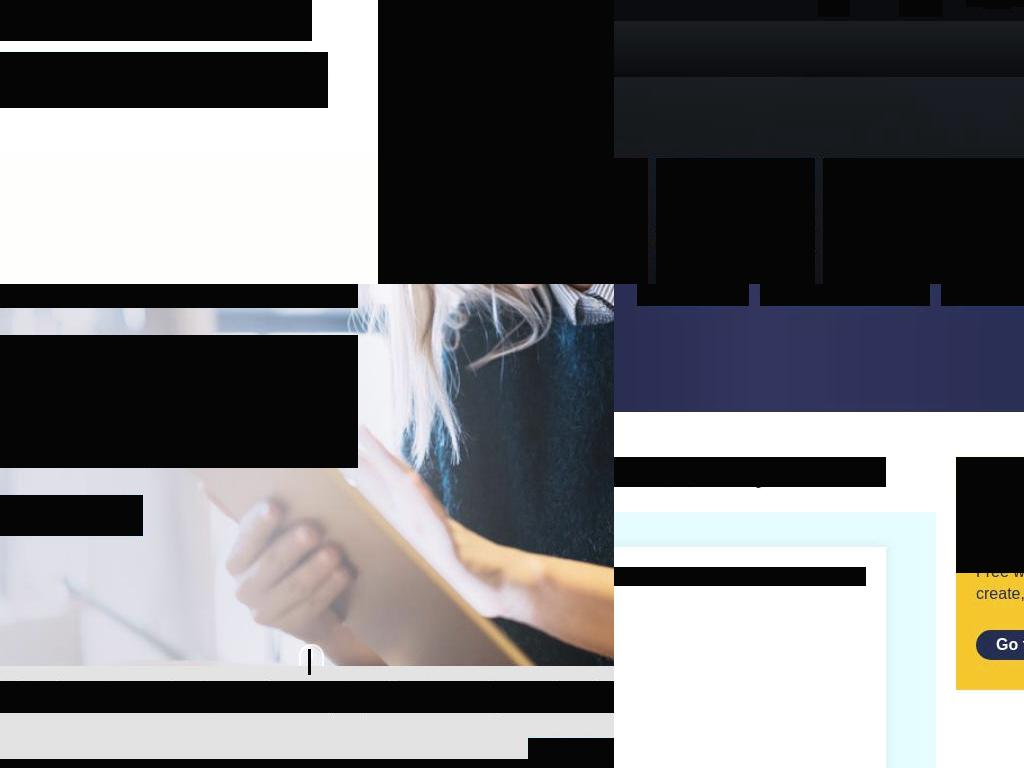button: (0, 52, 328, 108), (0, 495, 143, 536), (760, 284, 930, 306), (528, 738, 614, 768), (637, 284, 749, 306), (941, 284, 1024, 306), (124, 759, 286, 768), (336, 759, 498, 768), (976, 630, 1024, 660), (966, 0, 1024, 7)
heading: (0, 284, 358, 308), (614, 457, 886, 487), (614, 567, 866, 586)
image: (378, 0, 614, 284), (823, 158, 1024, 284), (656, 158, 815, 284), (956, 457, 1024, 573), (66, 495, 143, 536), (0, 495, 66, 536), (982, 0, 1012, 9)
link: (0, 0, 312, 41), (76, 0, 206, 22), (0, 0, 43, 22), (899, 0, 943, 17), (818, 0, 850, 17)
text: (0, 335, 358, 468), (0, 681, 614, 713), (780, 284, 910, 299), (0, 508, 127, 523), (0, 19, 86, 41), (976, 482, 1024, 514), (976, 514, 1024, 546), (205, 0, 263, 22), (657, 284, 728, 299), (961, 284, 1024, 299), (42, 0, 77, 22), (996, 636, 1024, 653), (308, 649, 311, 675)
